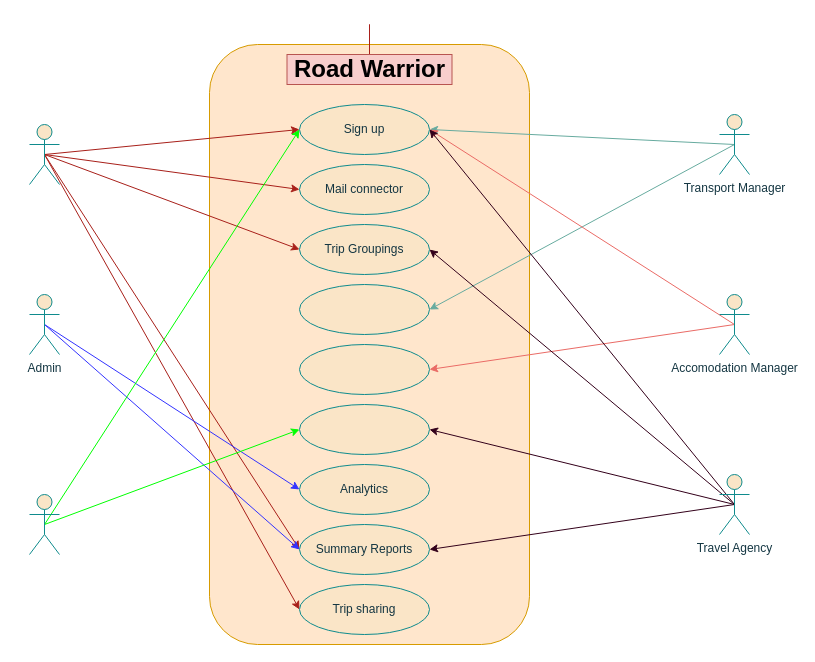
Image size: 815x662. Some labels were removed from this diagram. Here are the shapes that lost their labels. From the top down, the centre of each, then its label:
At point 44,154: "Traveller".
At point 364,309: "Transport Booking".
At point 364,369: "Hotel booking".
At point 364,429: "Assistance".
At point 44,524: "Help Desk".
